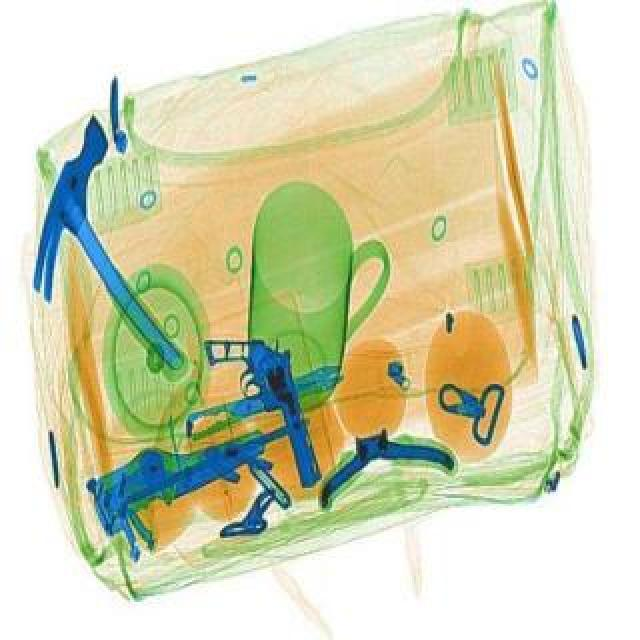gun: (196, 318, 334, 500)
pliers: (176, 358, 348, 440)
wrench: (296, 410, 456, 508)
